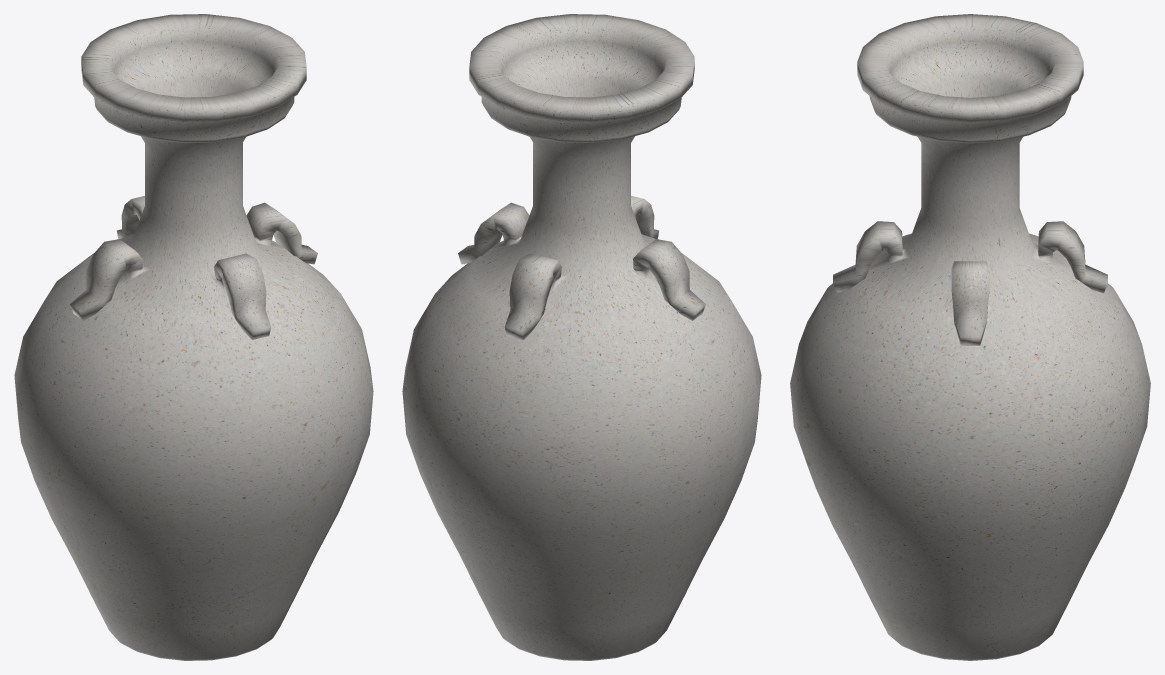
The model's file is taoci1.FBX.
The picture shows the model from 3 angles, left to right: view 1: azimuth 30°, elevation 25°; view 2: azimuth 150°, elevation 25°; view 3: azimuth 270°, elevation 25°; orthographic projection.
Visible parts, largest first — view 1: 对象001; view 2: 对象001; view 3: 对象001.
Boxes of the visible parts, <box> form: 对象001: <box>14,14,373,660</box>; 对象001: <box>402,14,761,660</box>; 对象001: <box>790,14,1150,660</box>.
Size of the model in its own units: 1.18 by 2.04 by 1.18.
